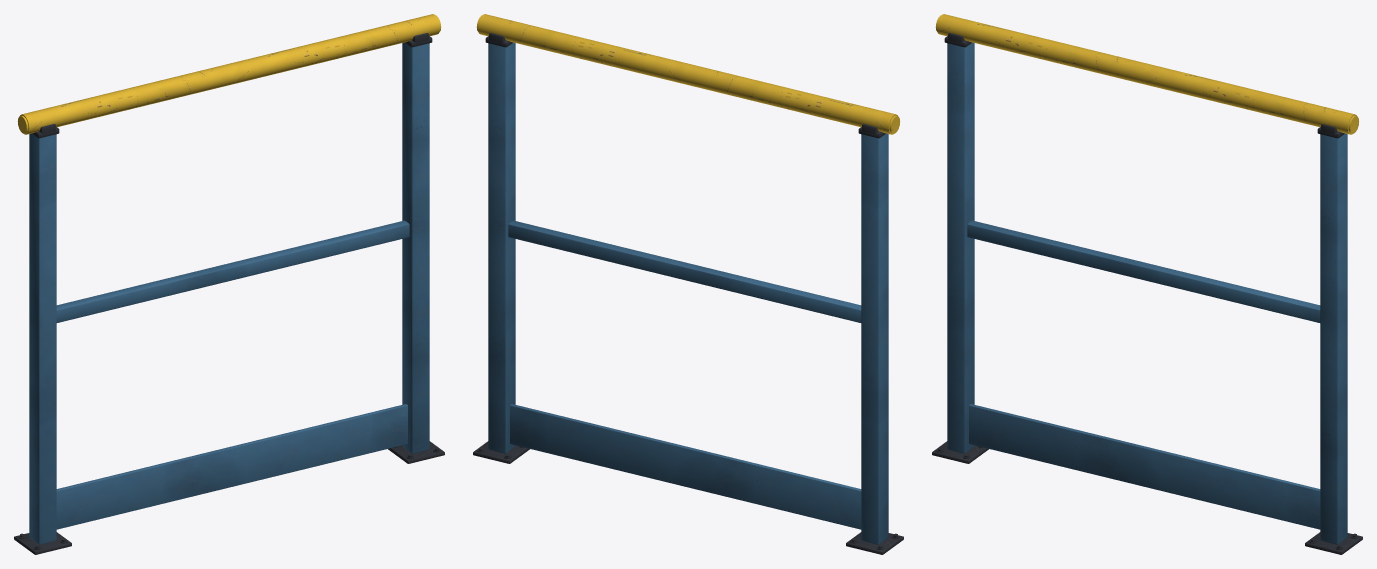
The model's file is metal_railing.glb.
The picture shows the model from 3 angles, left to right: view 1: azimuth 30°, elevation 25°; view 2: azimuth 150°, elevation 25°; view 3: azimuth 330°, elevation 25°; orthographic projection.
Parts seen in each view (by area): view 1: MetalRailingMesh; view 2: MetalRailingMesh; view 3: MetalRailingMesh.
Part boxes in pixels (box(x1,y1,x2,y2)): MetalRailingMesh: box(14, 14, 444, 554); MetalRailingMesh: box(473, 14, 903, 554); MetalRailingMesh: box(932, 14, 1362, 554).
Bounding box in the file's own units: 1 × 0.998 × 0.09.
Materials: 3 (3 with a texture image).
